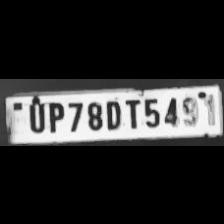1: (200, 90, 216, 126)
3: (180, 92, 198, 126)
4: (160, 93, 180, 127)
5: (141, 93, 161, 126)
7: (64, 98, 84, 132)
8: (84, 97, 104, 130)
D: (102, 96, 122, 130)
P: (45, 97, 65, 132)
T: (123, 95, 141, 129)
U: (24, 97, 46, 132)
